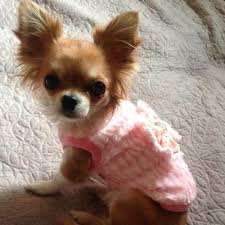Chihuahua: (11, 4, 209, 224)
